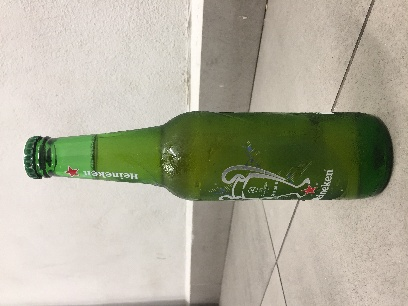HB: (13, 80, 285, 148)
